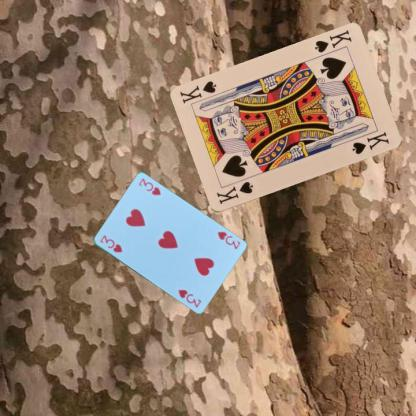3h: (214, 229, 242, 251), (97, 232, 123, 254)
Ks: (213, 179, 255, 206), (311, 28, 353, 54)
